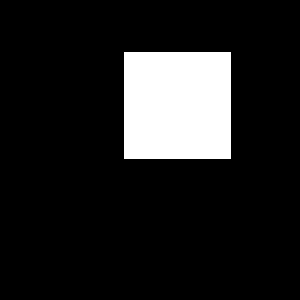circle: (124, 52, 231, 159)
